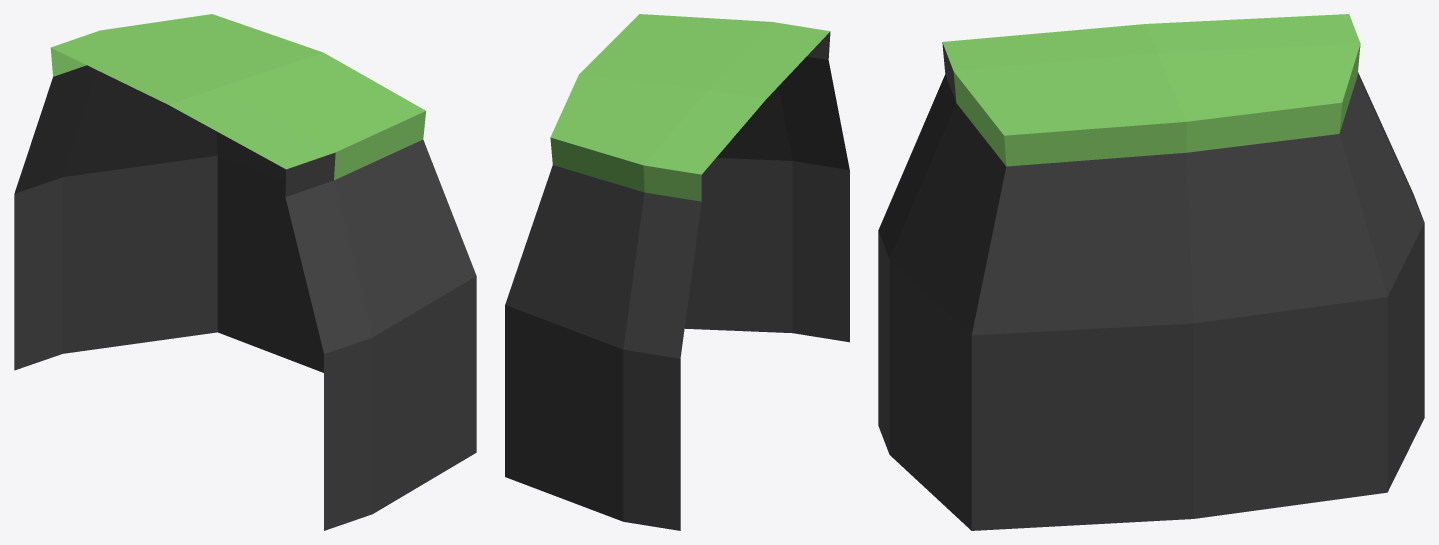
The model's file is Rock.fbx.
The picture shows the model from 3 angles, left to right: view 1: azimuth 30°, elevation 25°; view 2: azimuth 150°, elevation 25°; view 3: azimuth 270°, elevation 25°; orthographic projection. The views are drawn at different scales.
Parts seen in each view (by area): view 1: Rock; view 2: Rock; view 3: Rock.
Boxes of the visible parts, bbox=[...] form: Rock: bbox=[14, 14, 476, 530]; Rock: bbox=[505, 14, 849, 530]; Rock: bbox=[878, 14, 1424, 530].
Size of the model in its own units: 6 by 7.56 by 9.77.
